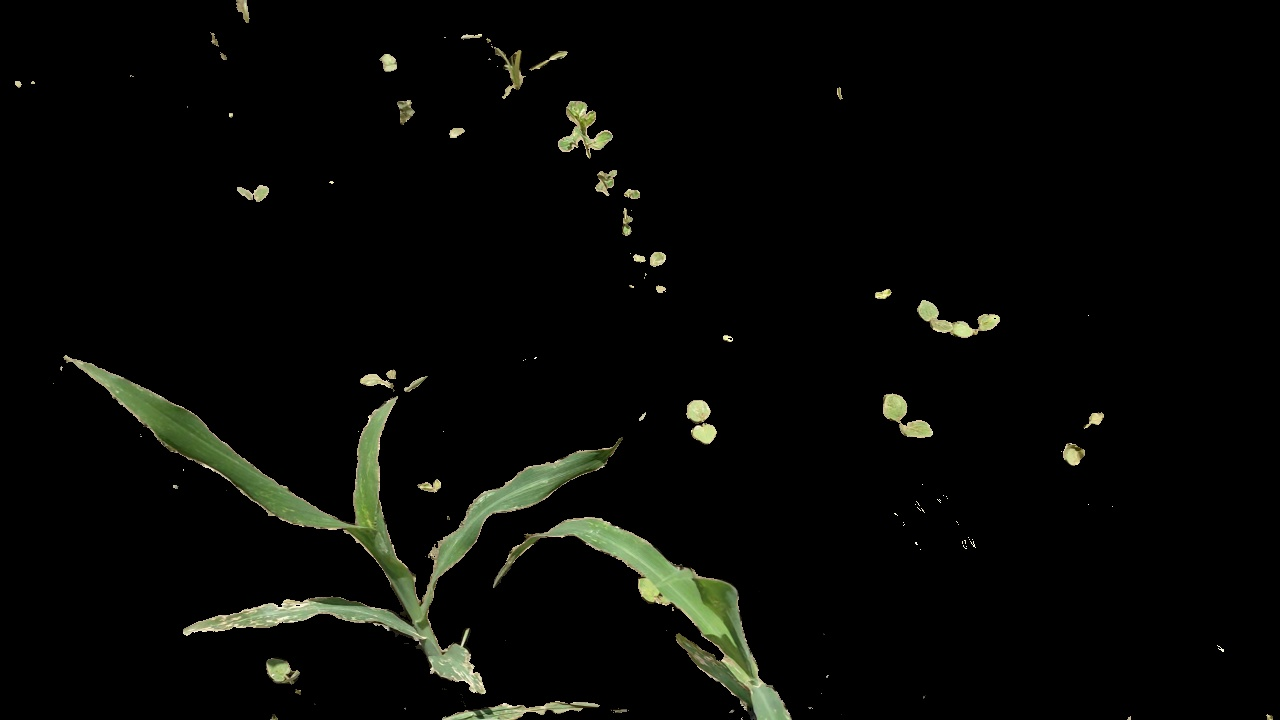crop: (58, 345, 626, 689), (488, 517, 816, 720)
weed: (863, 384, 971, 448), (911, 292, 1012, 347), (1058, 394, 1119, 468), (559, 99, 615, 165), (676, 392, 728, 449), (262, 661, 311, 691), (233, 182, 272, 212), (581, 169, 621, 195), (628, 244, 667, 266)
